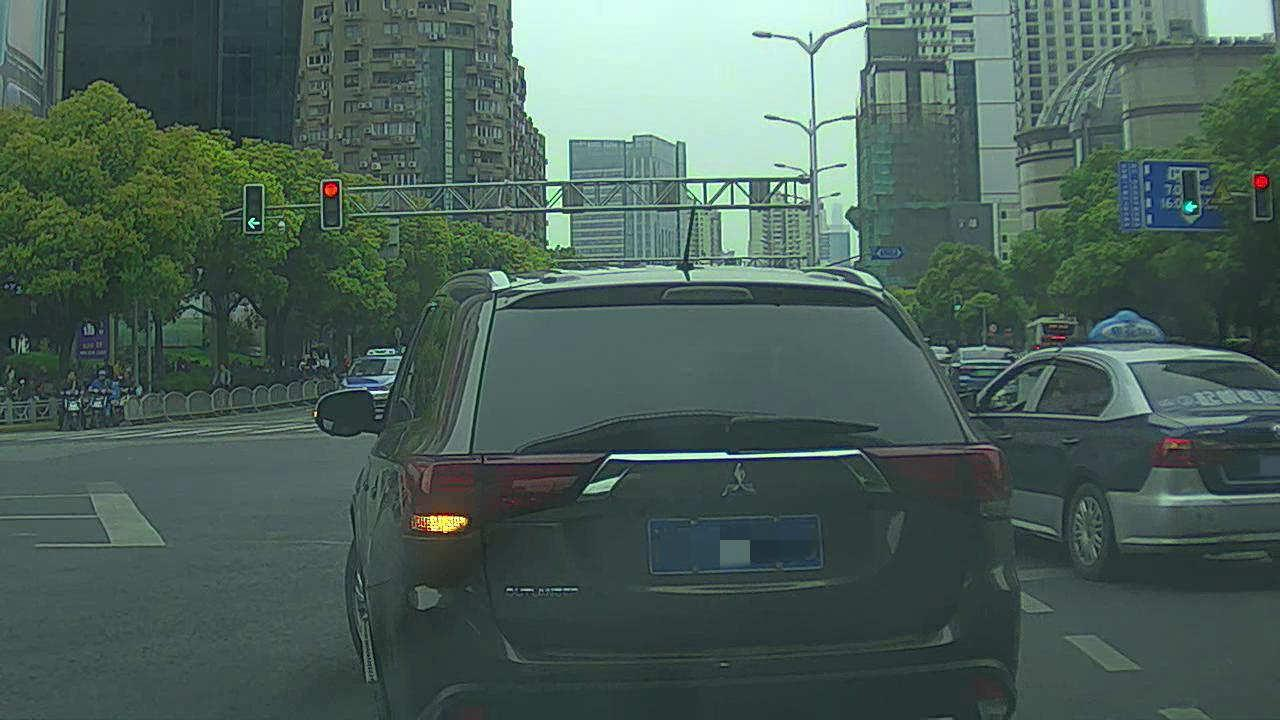traffic_light: (318, 177, 344, 226), (1251, 170, 1274, 223), (240, 183, 264, 230), (1183, 170, 1202, 221)
